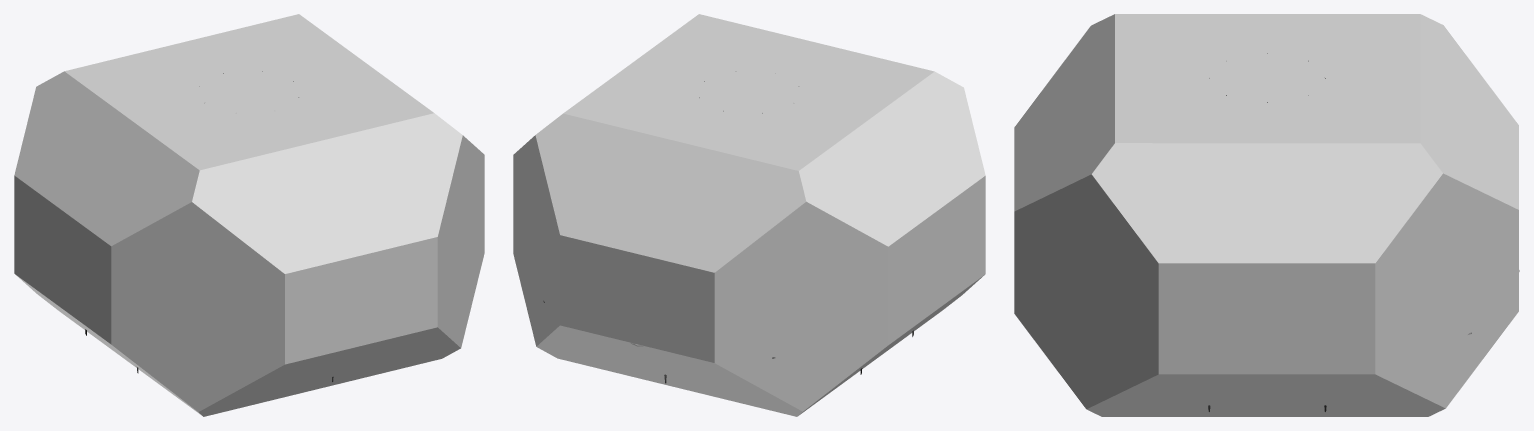
The model's file is SM_Chandellier_SM_Chandellier_body.fbx.
3 views of the same model, side by side, from view 1: azimuth 30°, elevation 25°; view 2: azimuth 150°, elevation 25°; view 3: azimuth 270°, elevation 25° (orthographic). The views are drawn at different scales.
Parts seen in each view (by area): view 1: SM_Chandellier_SM_Chandellier_body_ConvexHulls; view 2: SM_Chandellier_SM_Chandellier_body_ConvexHulls; view 3: SM_Chandellier_SM_Chandellier_body_ConvexHulls.
Boxes of the visible parts, box(x1,y1,x2,y2) form: SM_Chandellier_SM_Chandellier_body_ConvexHulls: box(14, 14, 484, 416); SM_Chandellier_SM_Chandellier_body_ConvexHulls: box(513, 14, 985, 416); SM_Chandellier_SM_Chandellier_body_ConvexHulls: box(1014, 14, 1518, 416).
Bounding box in the file's own units: 627 × 651 × 394.
